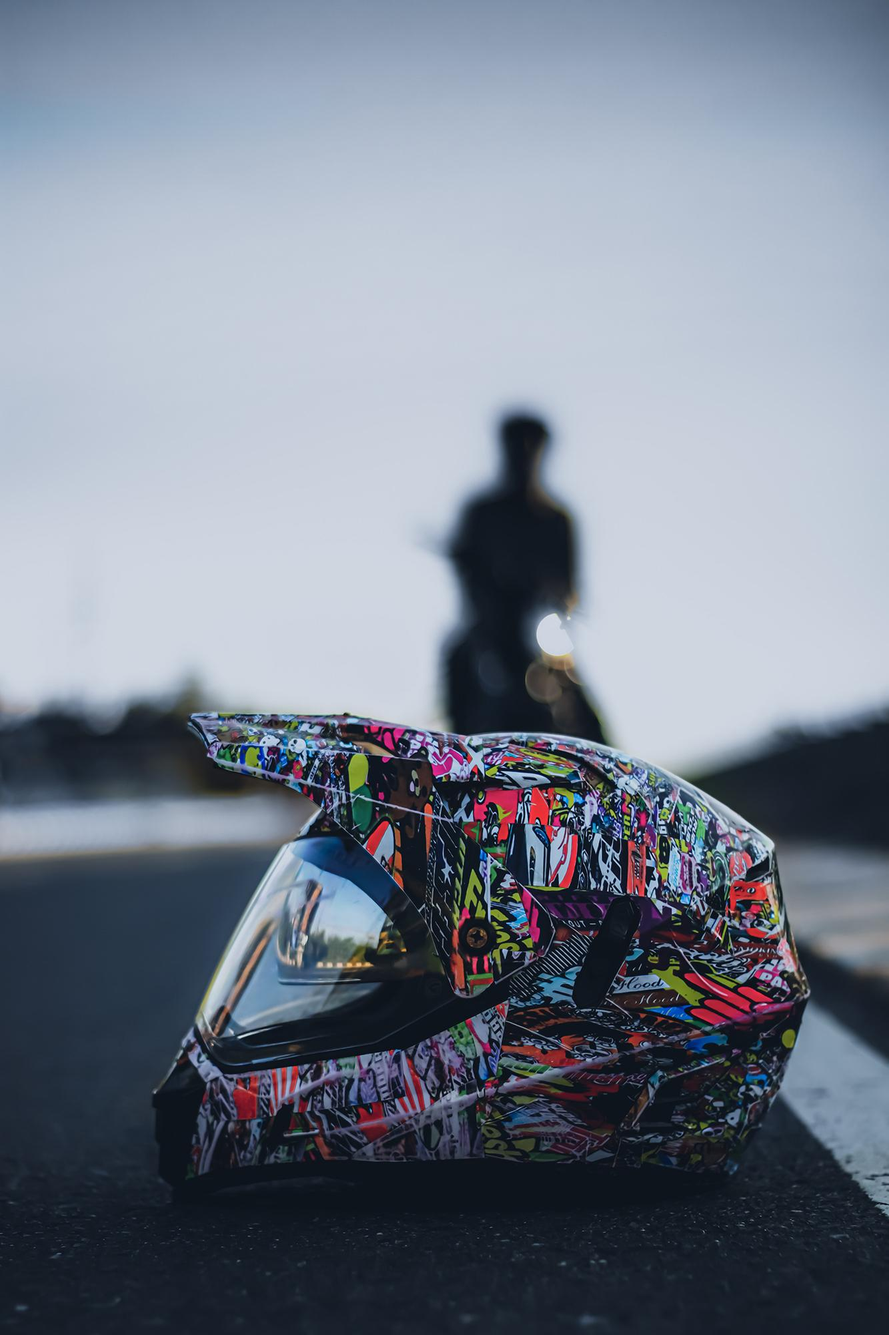helmet: (148, 709, 814, 1207)
